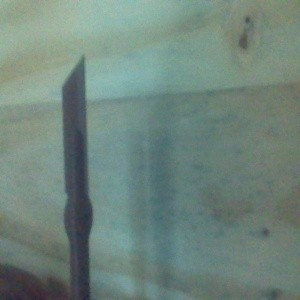cutter: (60, 53, 95, 300)
